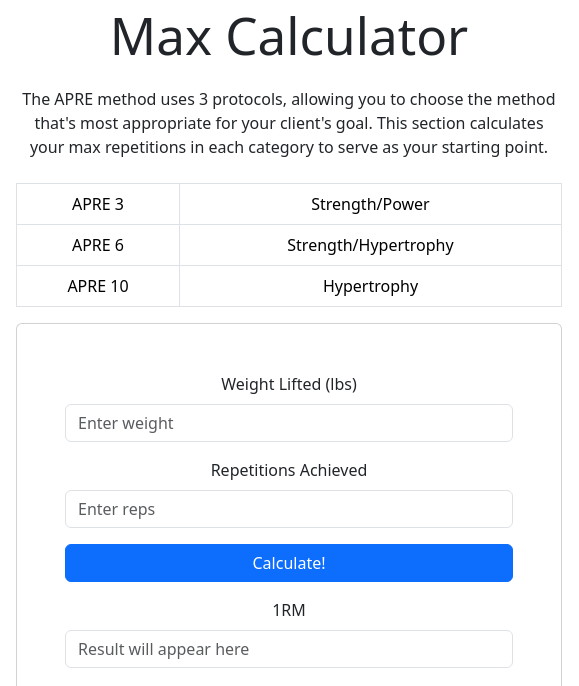
Scenario: OneRMCalculator › shows error message for invalid weight (zero)
The image size is (579, 686).
In the number field labelled "Weight Lifted (lbs)": (289, 423) [65,404,513,442], type "0"
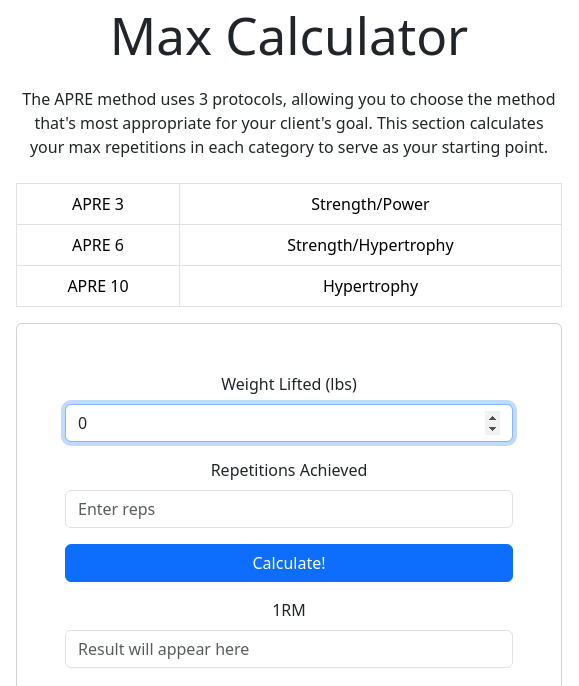
In the number field labelled "Repetitions Achieved": (289, 509) [65,490,513,528], type "5"
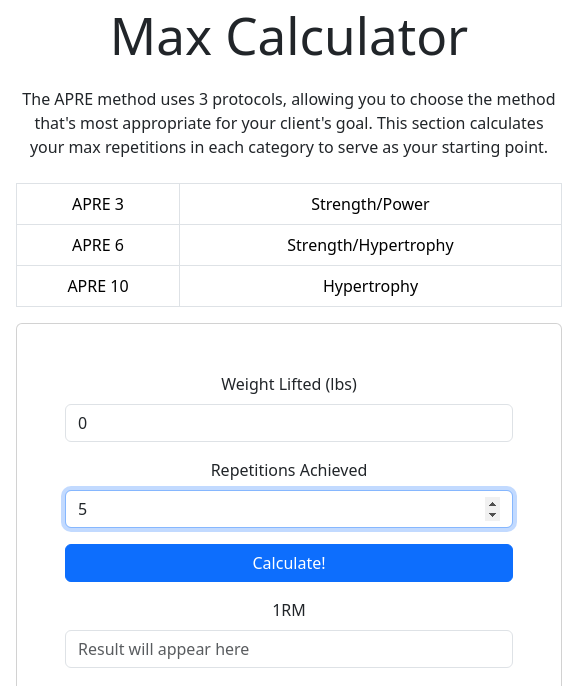
Click the button "Calculate!": (289, 563) [65,544,513,582]
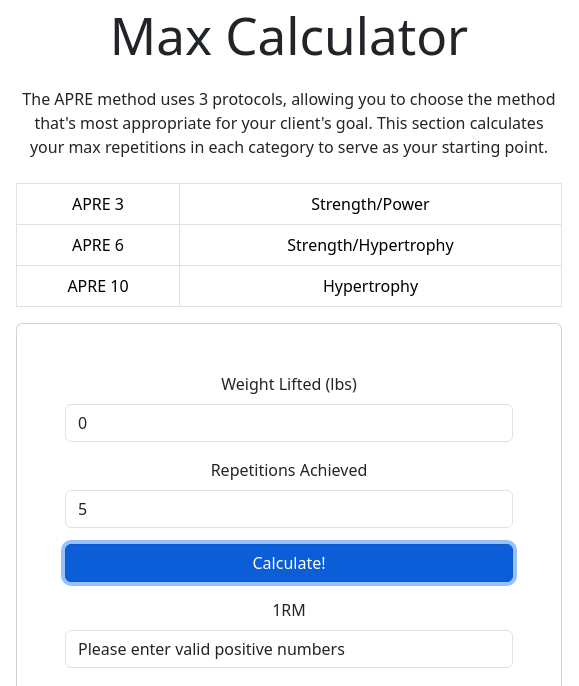
Expected: the field labelled "1RM" holds "Please enter valid positive numbers", [65,630,513,668]
